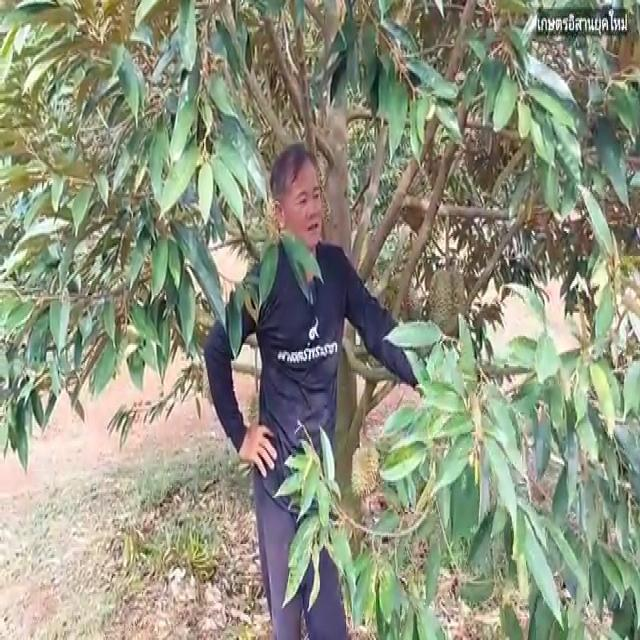durian: (426, 260, 472, 351)
